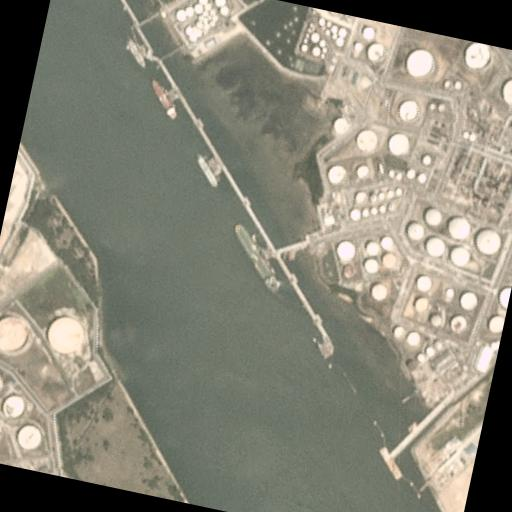ship: (222, 222, 290, 290), (144, 78, 182, 120), (190, 152, 222, 190), (120, 34, 150, 68)
